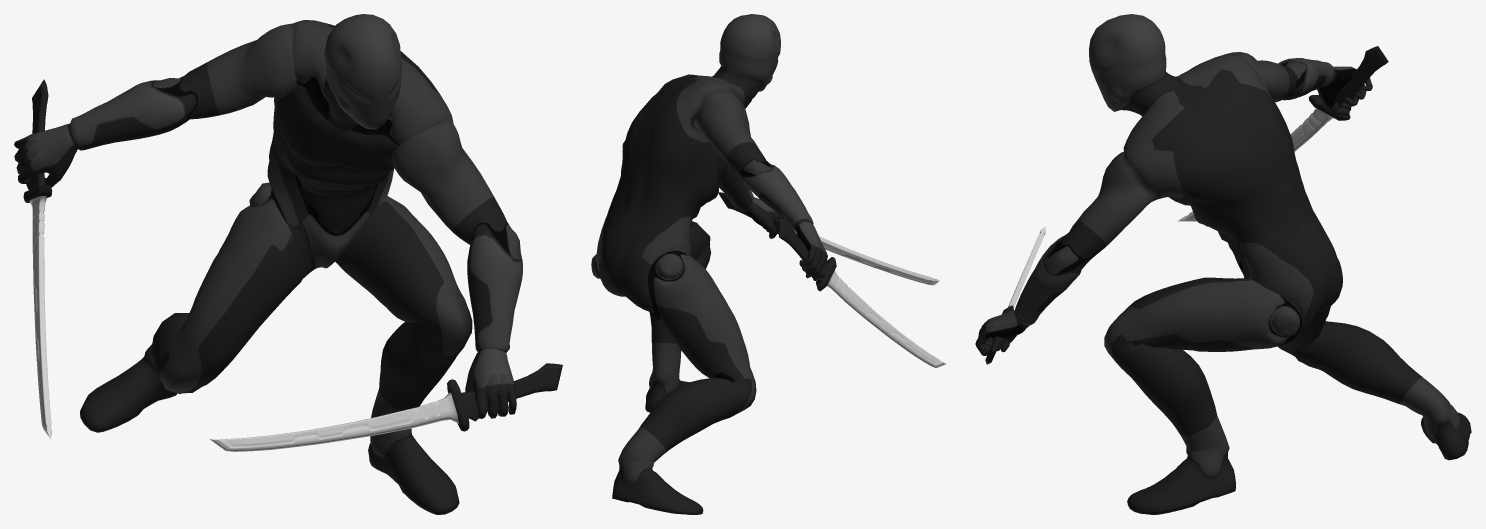
3 views of the same model, side by side, from view 1: azimuth 30°, elevation 25°; view 2: azimuth 150°, elevation 25°; view 3: azimuth 270°, elevation 25° (orthographic). The views are drawn at different scales.
Visible parts, largest first — view 1: Cyborg_Ninja_Killer, Sword_l, Sword_l001; view 2: Cyborg_Ninja_Killer, Sword_l001, Sword_l; view 3: Cyborg_Ninja_Killer, Sword_l001, Sword_l.
Boxes of the visible parts, left/top/right/bottom form: Cyborg_Ninja_Killer: left=14, top=14, right=522, bottom=514; Sword_l: left=209, top=363, right=562, bottom=451; Sword_l001: left=23, top=79, right=52, bottom=439; Cyborg_Ninja_Killer: left=591, top=14, right=827, bottom=514; Sword_l001: left=779, top=217, right=945, bottom=368; Sword_l: left=718, top=192, right=939, bottom=285; Cyborg_Ninja_Killer: left=975, top=14, right=1471, bottom=514; Sword_l001: left=1178, top=46, right=1388, bottom=221; Sword_l: left=985, top=226, right=1045, bottom=364.
Bounding box in the file's own units: 111 × 134 × 132.
Materials: 2 (2 with a texture image).
